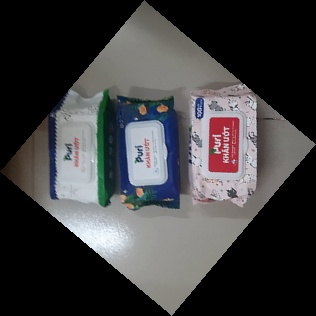Puri Trang: (44, 87, 119, 210)
Puri Xanh: (110, 94, 187, 213)
Puri hong: (181, 82, 261, 208)
